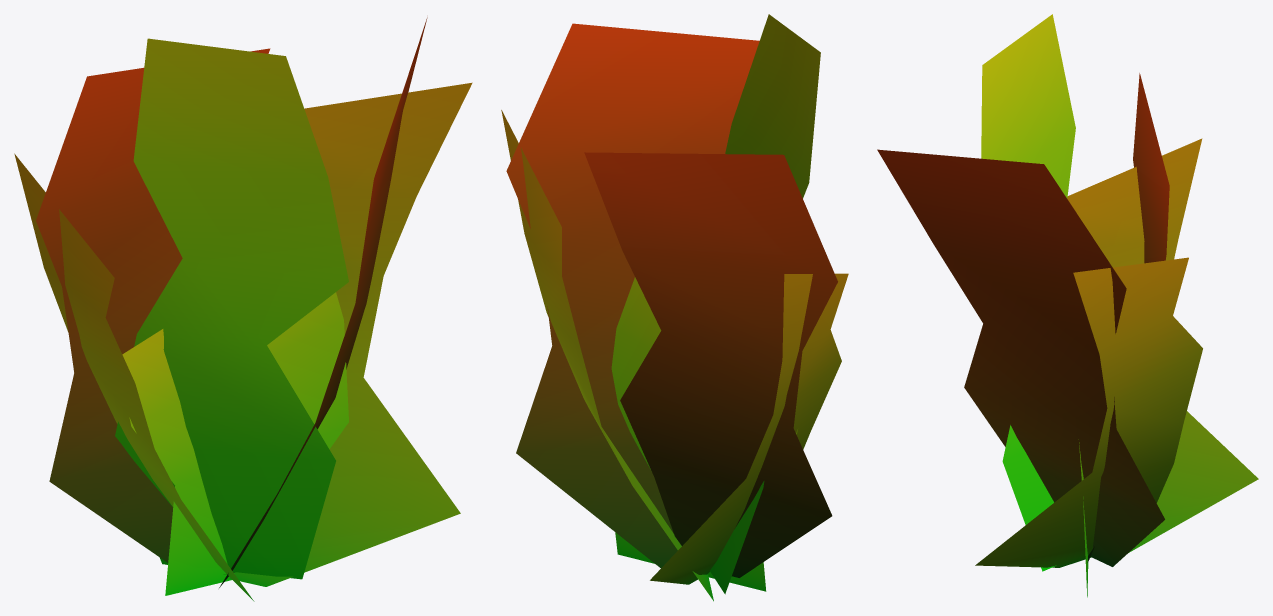
The model's file is Var8Hi10.fbx.
The picture shows the model from 3 angles, left to right: view 1: azimuth 30°, elevation 25°; view 2: azimuth 150°, elevation 25°; view 3: azimuth 270°, elevation 25°; orthographic projection. The views are drawn at different scales.
Parts seen in each view (by area): view 1: bend1; view 2: bend1; view 3: bend1.
Boxes of the visible parts, x1,y1,x2,y2 form: bend1: [14, 17, 472, 601]; bend1: [501, 14, 848, 601]; bend1: [877, 14, 1258, 597].
Size of the model in its own units: 1.27 by 1.76 by 1.21.
